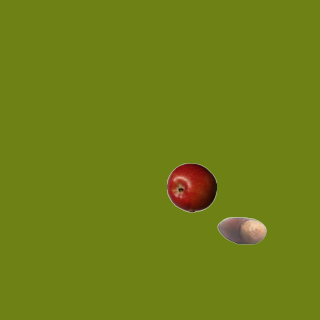Apple Braeburn: (166, 162, 216, 212)
Hazelnut: (216, 205, 266, 255)
